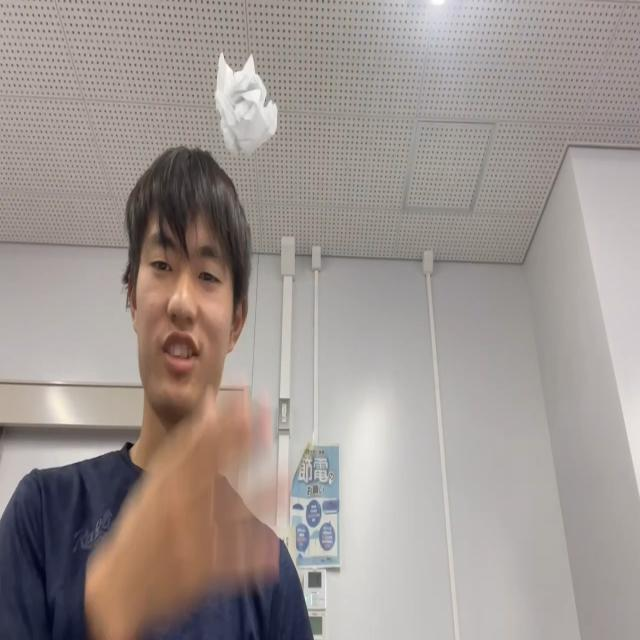paper: (214, 52, 278, 154)
